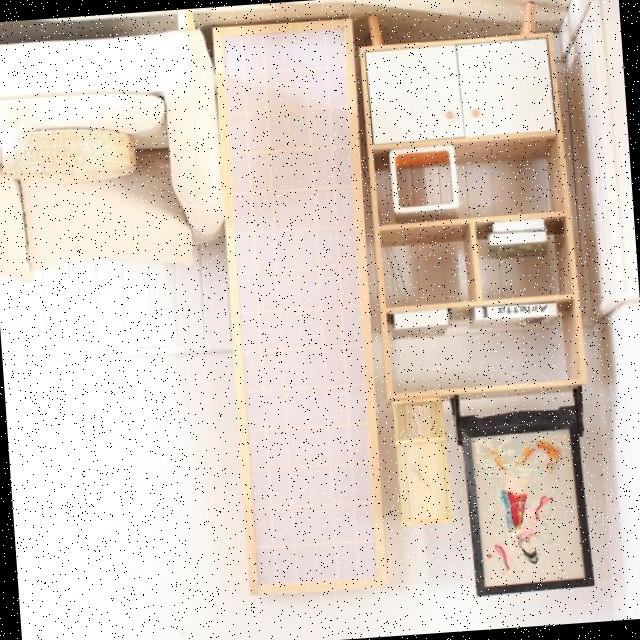Shelf: (353, 0, 589, 407)
